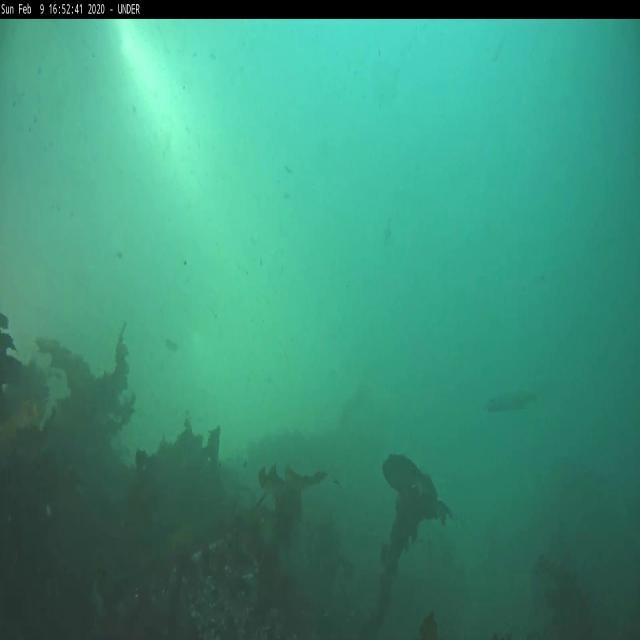fish: (482, 384, 540, 412)
